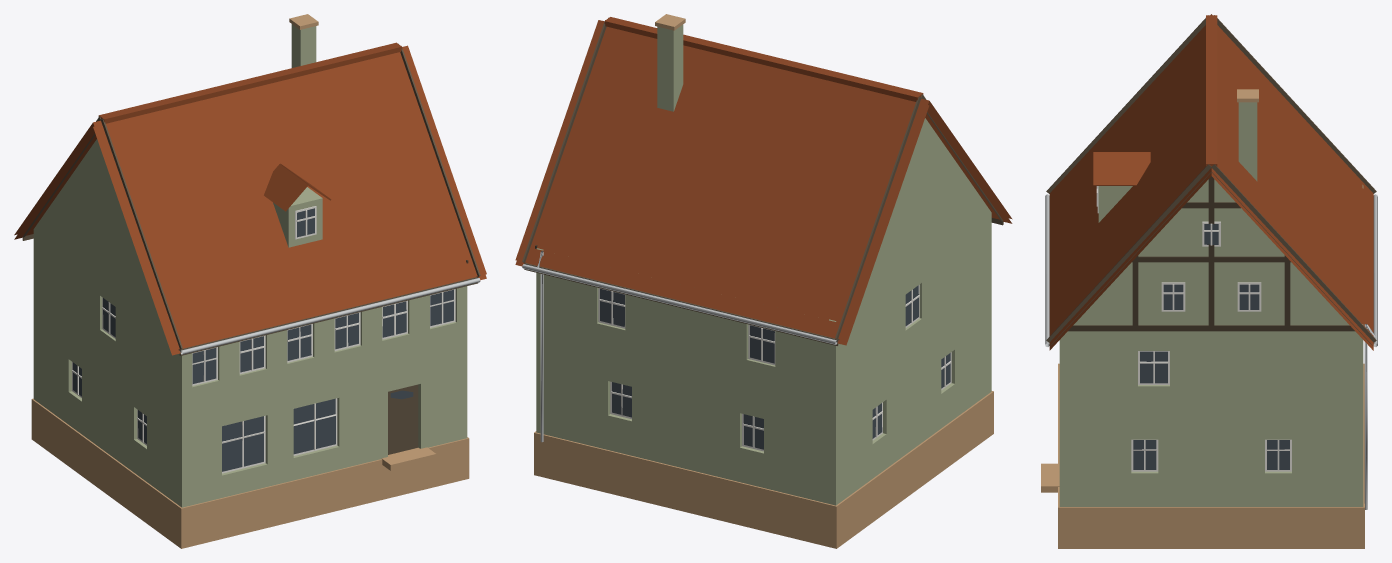
File: oldtown-eave-2-lod1.glb
The picture shows the model from 3 angles, left to right: view 1: azimuth 30°, elevation 25°; view 2: azimuth 150°, elevation 25°; view 3: azimuth 270°, elevation 25°; orthographic projection. The views are drawn at different scales.
Parts seen in each view (by area): view 1: oldtown-eave-2-plaster.001; view 2: oldtown-eave-2-plaster.001; view 3: oldtown-eave-2-plaster.001.
Boxes of the visible parts, <box> form: oldtown-eave-2-plaster.001: <box>14,14,486,548</box>; oldtown-eave-2-plaster.001: <box>515,14,1012,548</box>; oldtown-eave-2-plaster.001: <box>1041,14,1377,548</box>.
Bounding box in the file's own units: 11.04 × 13.68 × 9.98.
